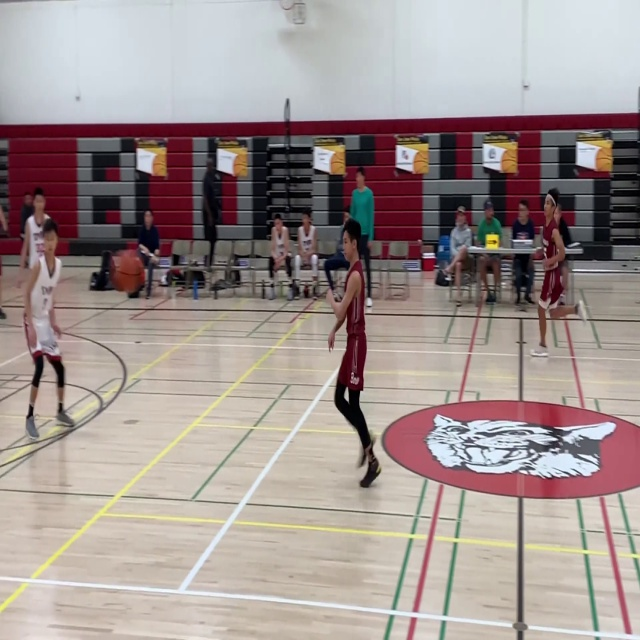Basketball: (109, 251, 145, 293)
